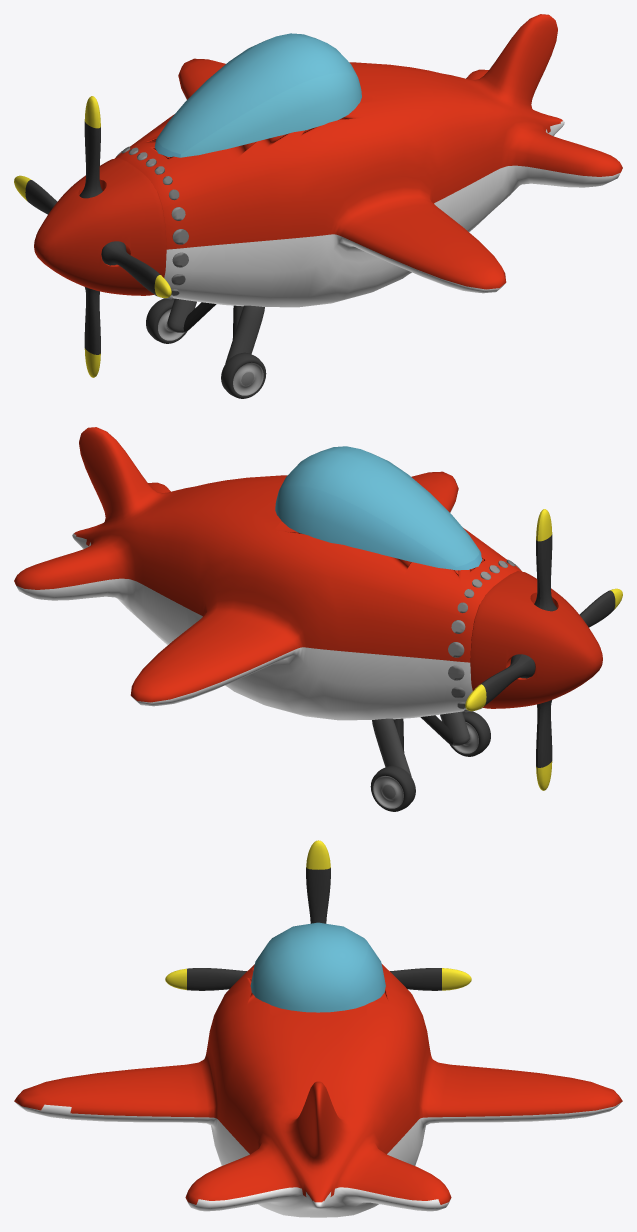
The model's file is styloo-planestylized-001.glb.
3 views of the same model, one above another, from view 1: azimuth 30°, elevation 25°; view 2: azimuth 150°, elevation 25°; view 3: azimuth 270°, elevation 25° (orthographic).
Visible parts, largest first — view 1: Cube.007, Cube.008, Cube.010, Cylinder; view 2: Cube.007, Cube.008, Cube.010, Cylinder; view 3: Cube.007, Cube.010, Cube.008.
Boxes of the visible parts, x1=… form: Cube.007: x1=115, y1=14, x2=622, y2=363; Cube.008: x1=14, y1=96, x2=171, y2=377; Cube.010: x1=154, y1=33, x2=361, y2=157; Cylinder: x1=146, y1=298, x2=266, y2=398; Cube.007: x1=14, y1=427, x2=521, y2=776; Cube.008: x1=465, y1=509, x2=622, y2=790; Cube.010: x1=275, y1=446, x2=482, y2=570; Cylinder: x1=370, y1=711, x2=490, y2=811; Cube.007: x1=14, y1=964, x2=622, y2=1217; Cube.010: x1=250, y1=922, x2=385, y2=1012; Cube.008: x1=165, y1=840, x2=471, y2=990.
Size of the model in its own units: 4.38 by 2.43 by 4.43.
1 material, 1 textured.
